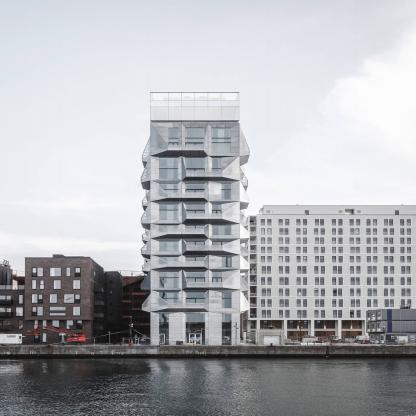Balcony: (186, 245, 231, 250), (160, 262, 205, 267), (160, 303, 205, 308), (186, 213, 222, 219), (186, 282, 222, 288), (187, 171, 222, 177), (168, 193, 204, 198), (168, 229, 204, 234), (169, 145, 204, 150)
Building Outline: (140, 92, 250, 345)
Door: (186, 298, 204, 308), (212, 241, 231, 250), (186, 257, 205, 266), (186, 241, 205, 250), (186, 278, 204, 287), (186, 225, 204, 234), (186, 210, 204, 219), (186, 190, 204, 198), (189, 334, 201, 345), (187, 169, 205, 176), (186, 143, 203, 150), (212, 278, 222, 287), (212, 210, 221, 219), (168, 143, 178, 150), (160, 334, 165, 344)
Facade: (140, 92, 250, 346)
Glass Wall: (186, 314, 205, 345), (159, 314, 169, 344), (222, 314, 231, 345)
Window: (212, 128, 231, 153), (159, 158, 178, 179), (160, 272, 179, 287), (160, 204, 178, 219), (185, 128, 204, 142), (160, 293, 179, 306), (160, 184, 178, 196), (185, 157, 204, 168), (212, 225, 232, 235), (212, 157, 221, 177), (159, 242, 178, 251), (222, 293, 232, 308), (160, 257, 178, 265), (160, 225, 178, 233), (222, 184, 231, 199), (169, 128, 178, 142), (186, 183, 205, 189), (186, 204, 205, 210), (186, 293, 204, 298), (186, 272, 204, 277), (223, 257, 232, 267), (212, 204, 221, 210), (213, 272, 222, 277)
